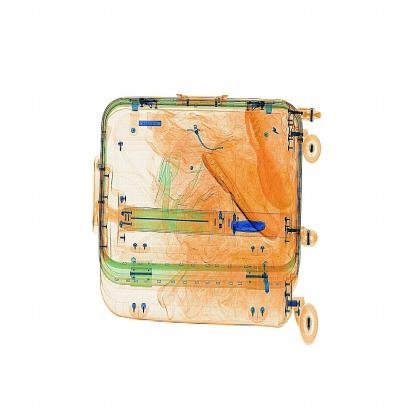knife: (228, 216, 274, 240)
